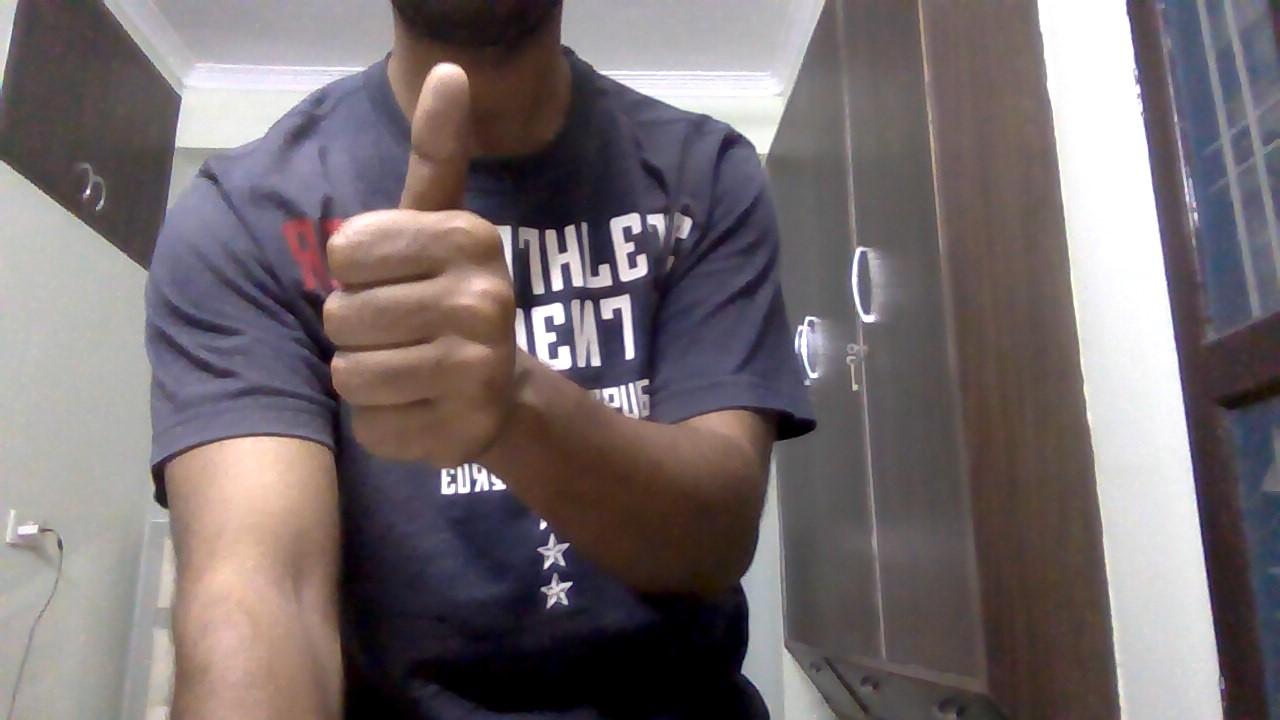Save: (305, 49, 535, 494)
